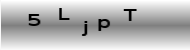5: (27, 13, 41, 26)
L: (56, 7, 71, 21)
T: (122, 7, 139, 22)
j: (79, 20, 89, 37)
p: (97, 17, 111, 32)
